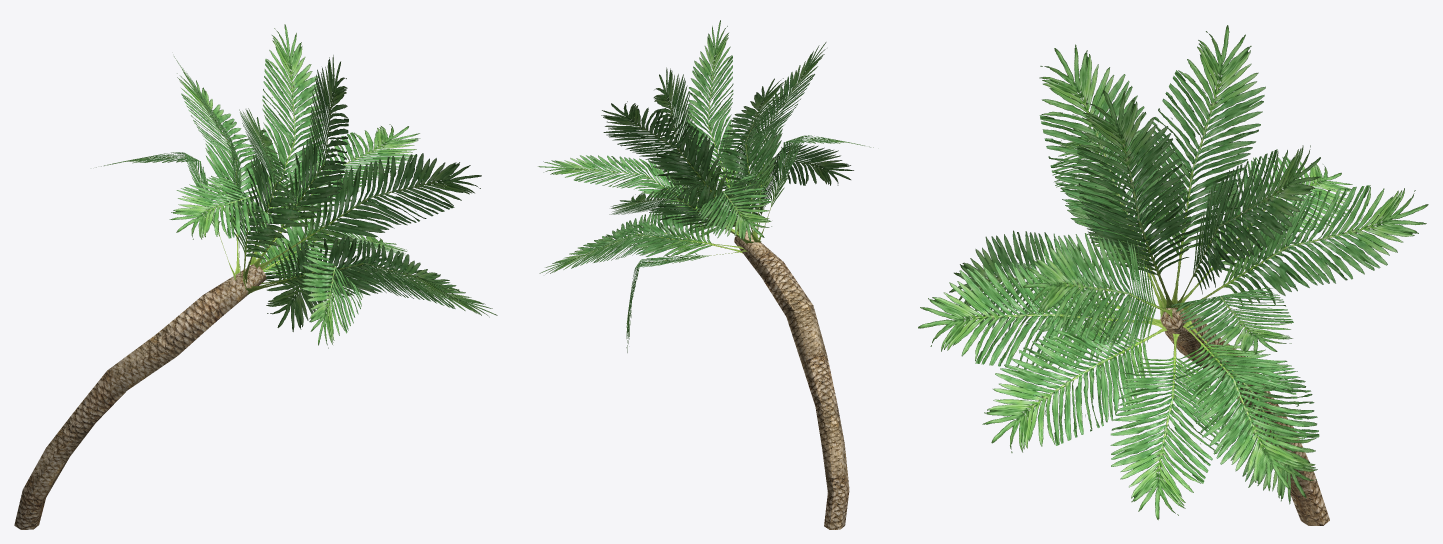
File: HyV3_LOD1.fbx
The picture shows the model from 3 angles, left to right: view 1: azimuth 30°, elevation 25°; view 2: azimuth 150°, elevation 25°; view 3: azimuth 270°, elevation 25°; orthographic projection. The views are drawn at different scales.
Parts seen in each view (by area): view 1: Mesh Object; view 2: Mesh Object; view 3: Mesh Object.
Part boxes in pixels (<box>): Mesh Object: <box>14,24,497,529</box>; Mesh Object: <box>538,20,873,529</box>; Mesh Object: <box>918,25,1428,525</box>.
Size of the model in its own units: 8.75 by 10.45 by 8.59.
